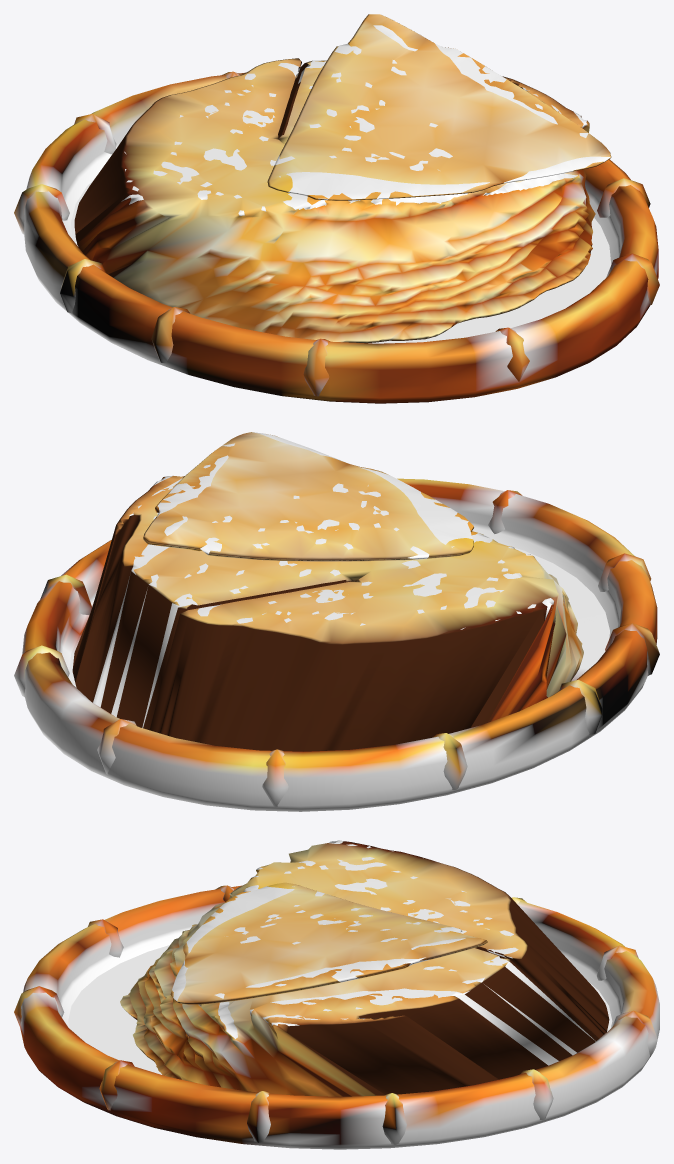
File: SM_pancake.fbx
The picture shows the model from 3 angles, top to bottom: view 1: azimuth 30°, elevation 25°; view 2: azimuth 150°, elevation 25°; view 3: azimuth 270°, elevation 25°; orthographic projection. The views are drawn at different scales.
Visible parts, largest first — view 1: SM_pancake; view 2: SM_pancake; view 3: SM_pancake.
Boxes of the visible parts, box(x1,y1,x2,y2) form: SM_pancake: box(14, 14, 659, 403); SM_pancake: box(14, 432, 659, 811); SM_pancake: box(14, 840, 659, 1149).
Bounding box in the file's own units: 0.2547 × 0.0737 × 0.2941.
